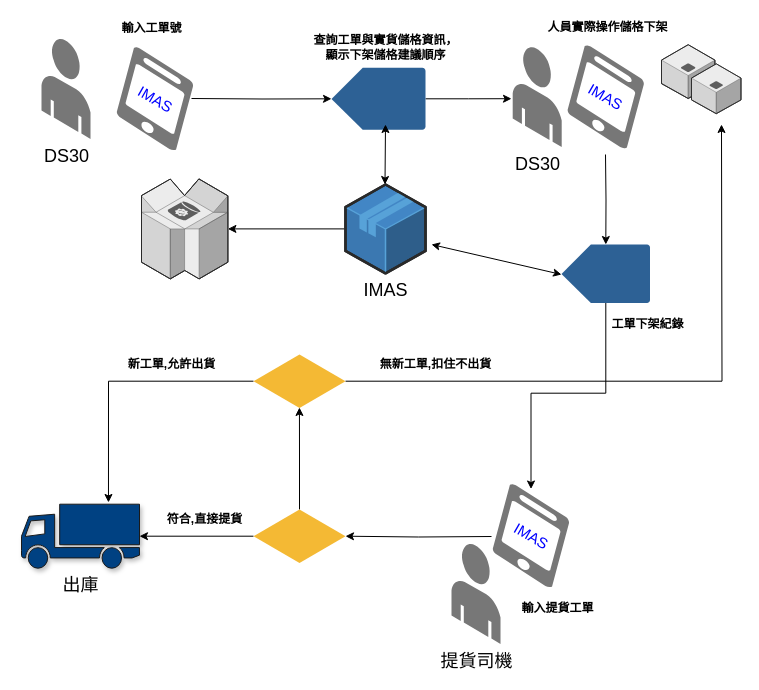
Image size: 759x690. Some labels were removed from this diagram. Each missing label, with the centre of its shape:
SAP: (184,228)
YES NO DS30 檢查是否 有新工單產生: (299,381)
檢查工單與 實貨內容: (299,535)
